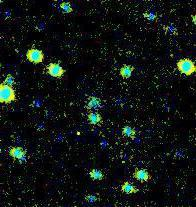star: (0, 120, 16, 150)
